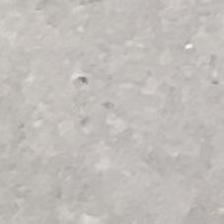Non_Crack: (3, 28, 192, 190)
